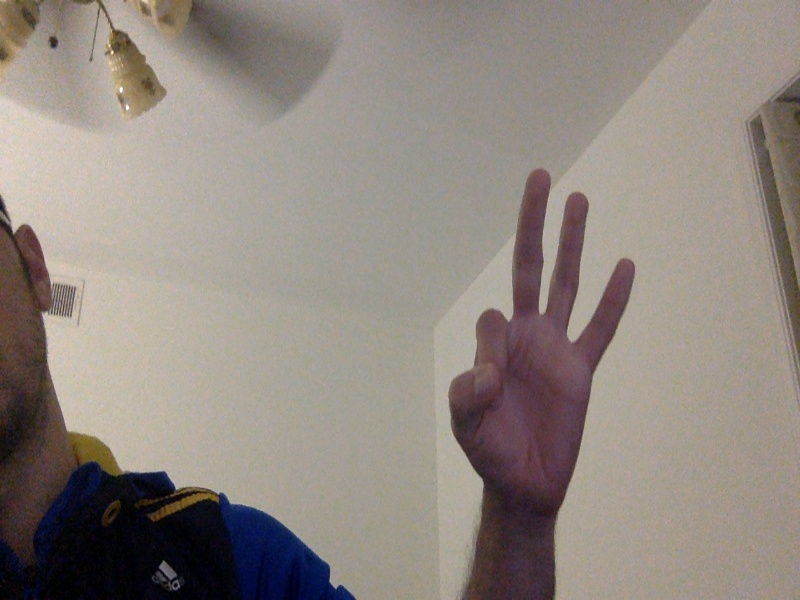3-hand: (448, 170, 638, 508)
